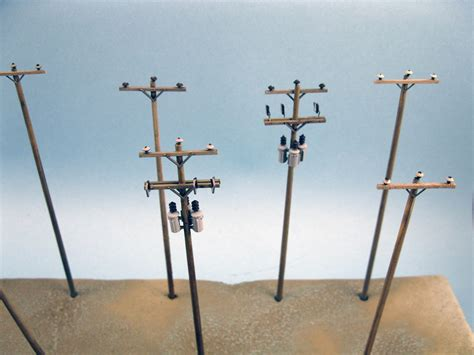pole: (255, 73, 335, 312)
